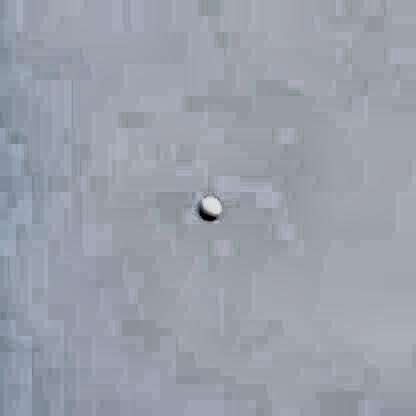golfball: (195, 190, 219, 218)
